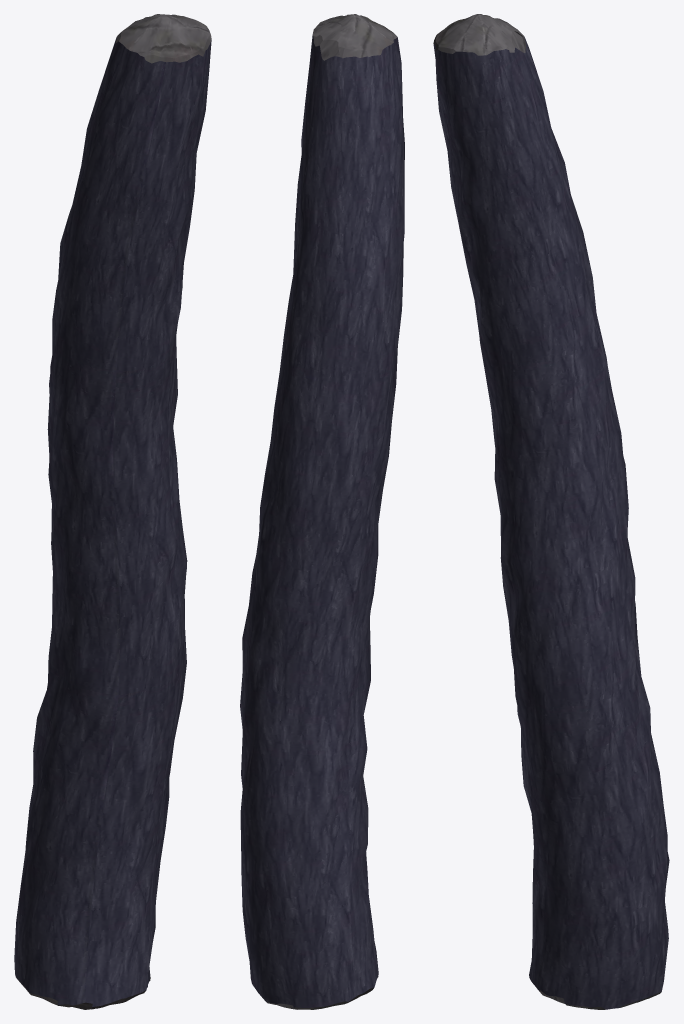
3 renders of one model, left to right at view 1: azimuth 30°, elevation 25°; view 2: azimuth 150°, elevation 25°; view 3: azimuth 270°, elevation 25°, orthographic. The views are drawn at different scales.
Parts seen in each view (by area): view 1: SM_Willow_02_tree_quarters_top_LOD0; view 2: SM_Willow_02_tree_quarters_top_LOD0; view 3: SM_Willow_02_tree_quarters_top_LOD0.
Boxes of the visible parts, x1=… form: SM_Willow_02_tree_quarters_top_LOD0: x1=14, y1=14, x2=211, y2=1009; SM_Willow_02_tree_quarters_top_LOD0: x1=240, y1=14, x2=404, y2=1009; SM_Willow_02_tree_quarters_top_LOD0: x1=433, y1=14, x2=669, y2=1009.
Size of the model in its own units: 1.13 by 7.78 by 1.67.
1 material, 1 textured.
